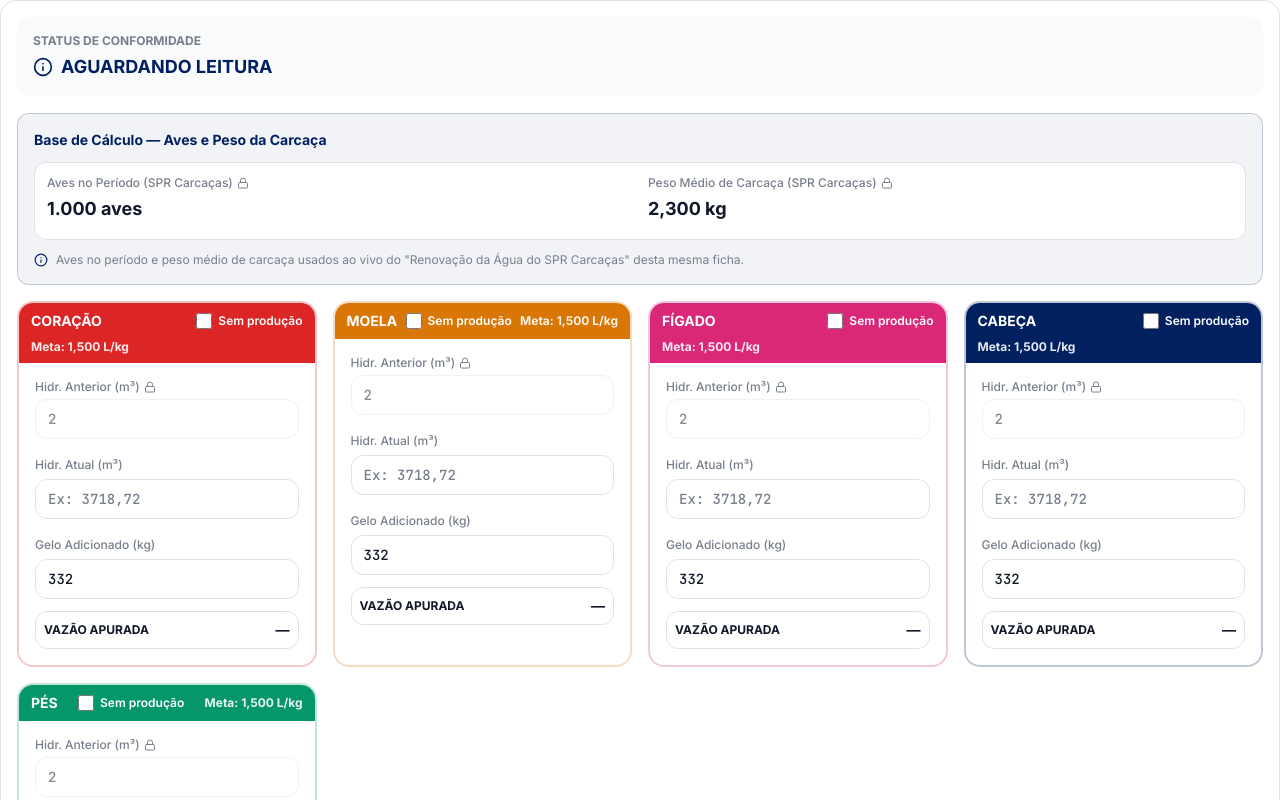
Sem produção por tanque › Miúdos: só o tanque marcado fica sem produção
Click the checkbox with test id "sem-producao-moela".
click(414, 321)  # box [406,313,422,329]
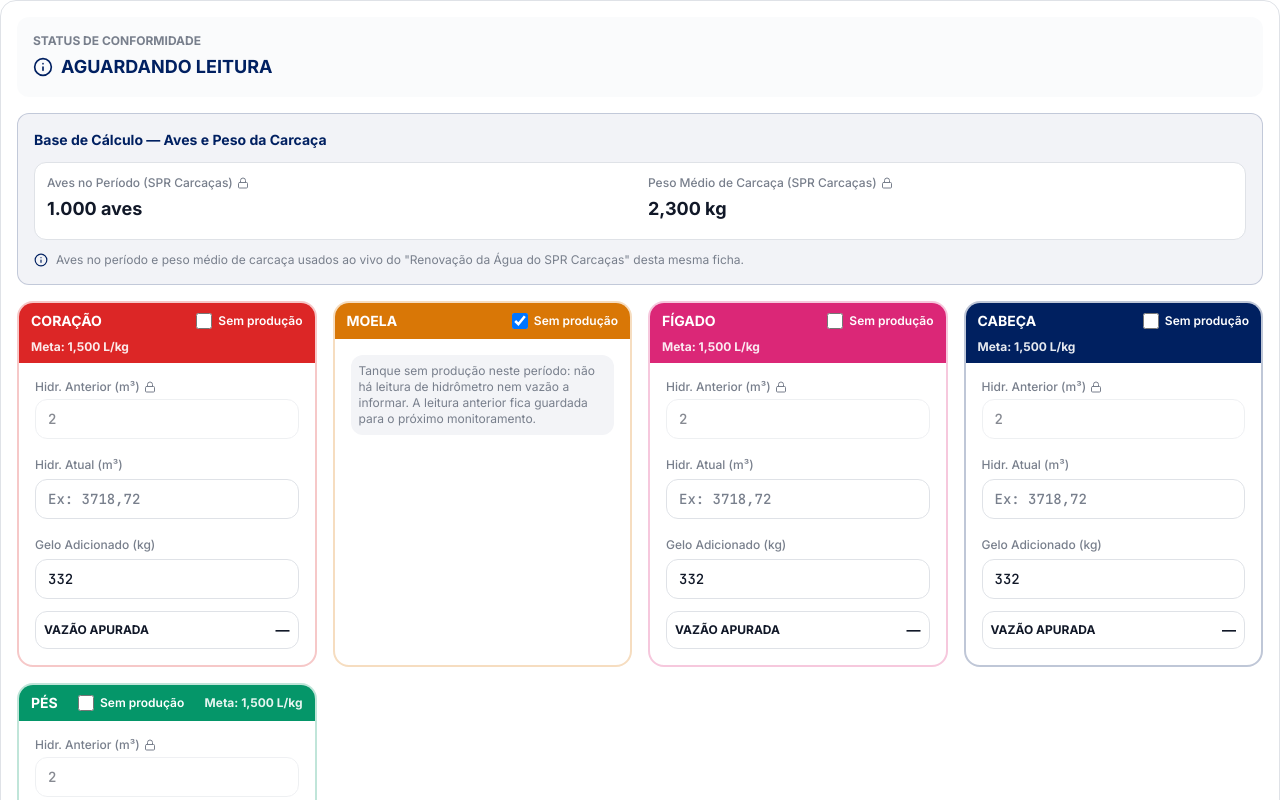
Now the text "Hidr. Atual (m³)" is shown 4 times
